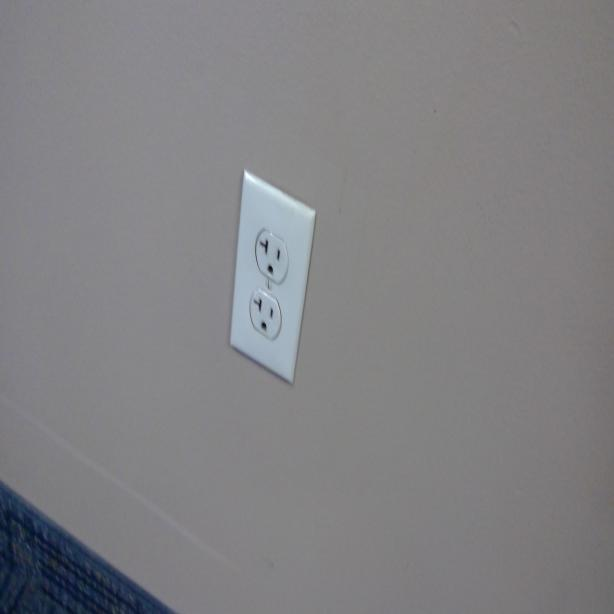typeb: (254, 226, 290, 282), (248, 289, 281, 340)
